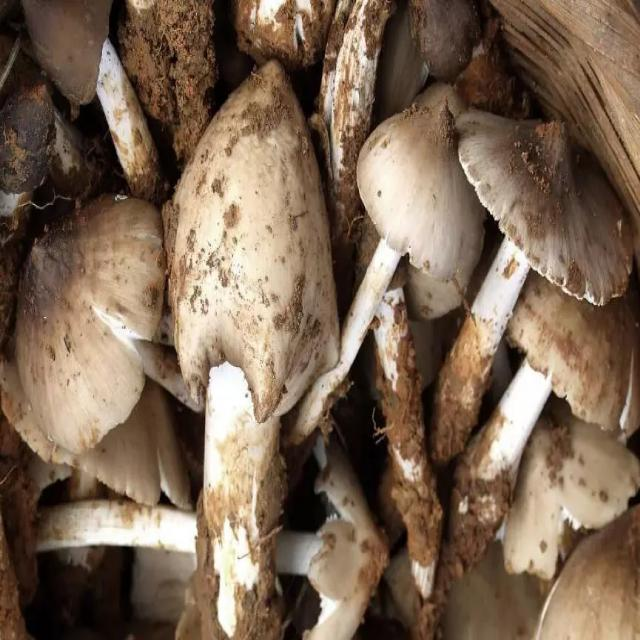Collybia albuminosa: (171, 61, 339, 627), (439, 108, 630, 444), (440, 282, 629, 559), (17, 190, 203, 454), (336, 73, 482, 385)
